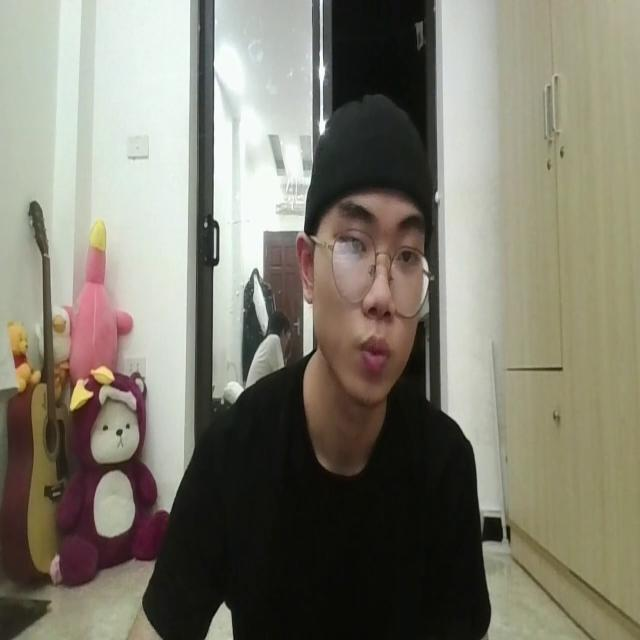student: (138, 90, 489, 640)
